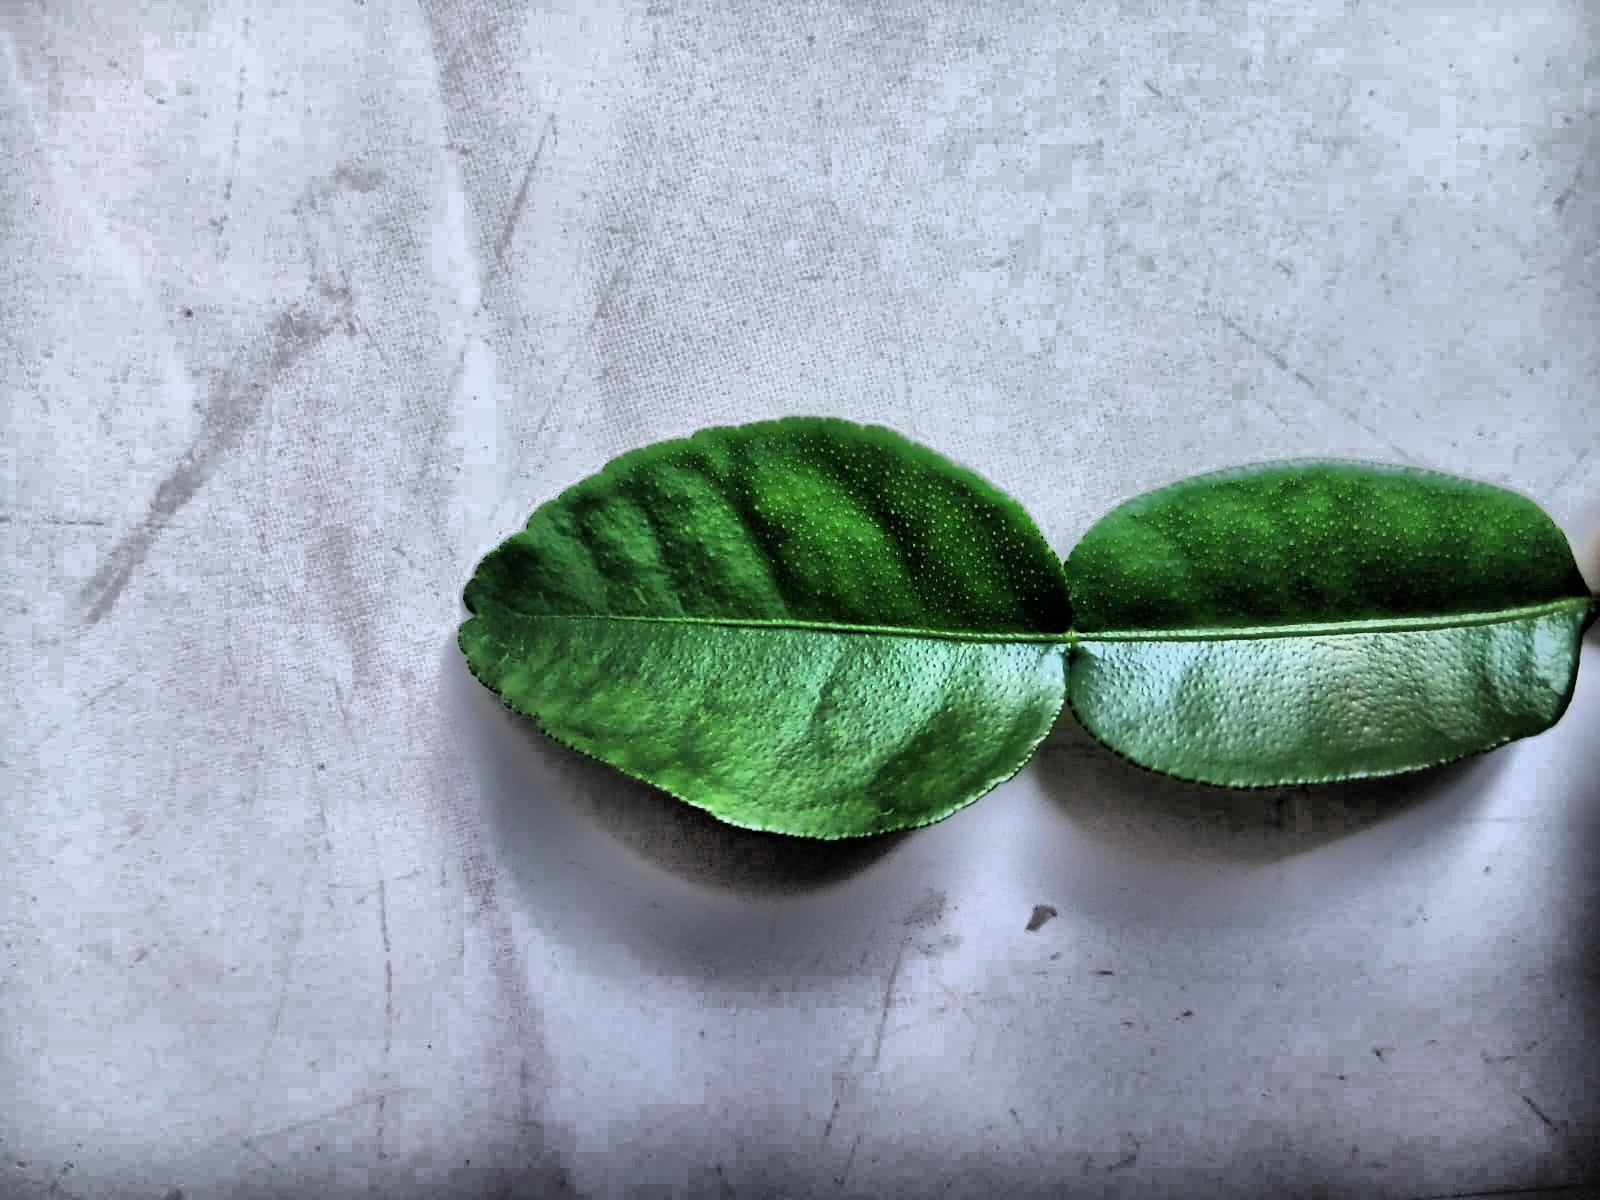daun jeruk: (459, 418, 1599, 839)
